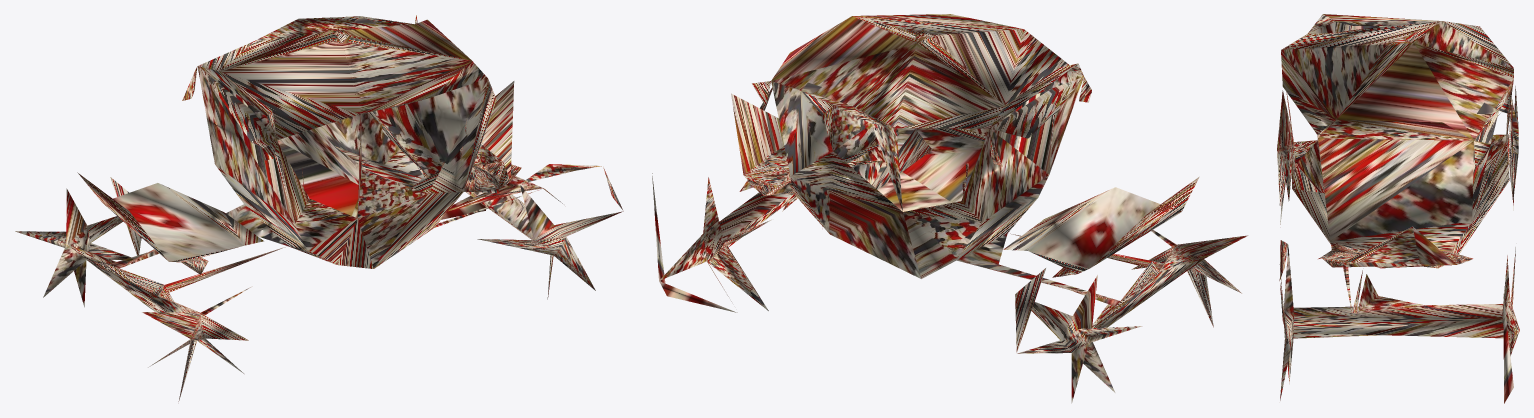
File: Royal_Carriage.glb
The picture shows the model from 3 angles, left to right: view 1: azimuth 30°, elevation 25°; view 2: azimuth 150°, elevation 25°; view 3: azimuth 270°, elevation 25°; orthographic projection. The views are drawn at different scales.
Visible parts, largest first — view 1: Royal_Carriage; view 2: Royal_Carriage; view 3: Royal_Carriage.
Boxes of the visible parts, bbox=[...] form: Royal_Carriage: bbox=[15, 15, 623, 401]; Royal_Carriage: bbox=[652, 14, 1248, 403]; Royal_Carriage: bbox=[1277, 14, 1519, 403].
Bounding box in the file's own units: 1.8 × 0.9432 × 0.7506.
Materials: 1 (1 with a texture image).
